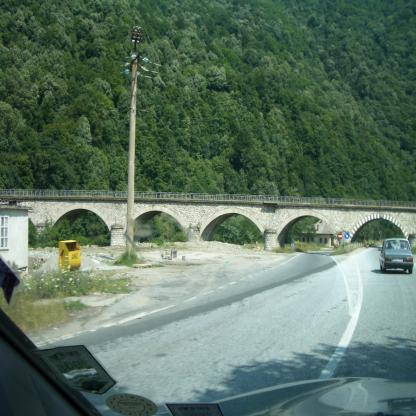Car: (377, 236, 415, 273)
